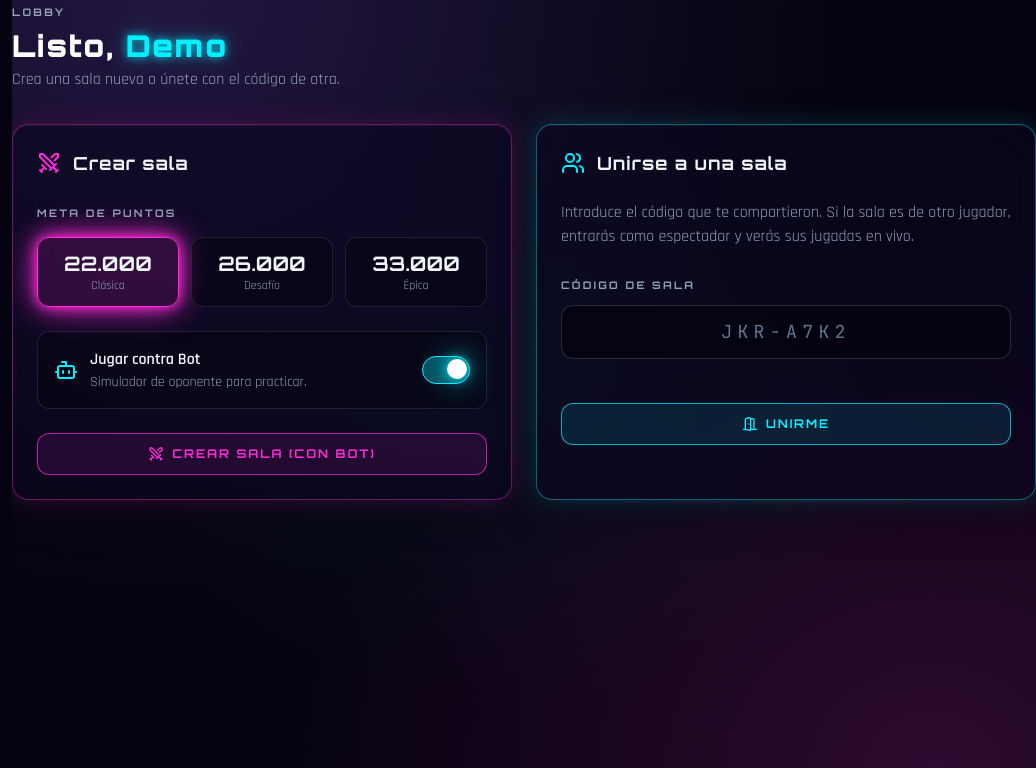
Scenario: Lobby (F2: salas) › shows a server error when the room cannot be created
Click the button "Crear sala (con Bot)" at (262, 454), box left=37, top=433, right=487, bottom=475
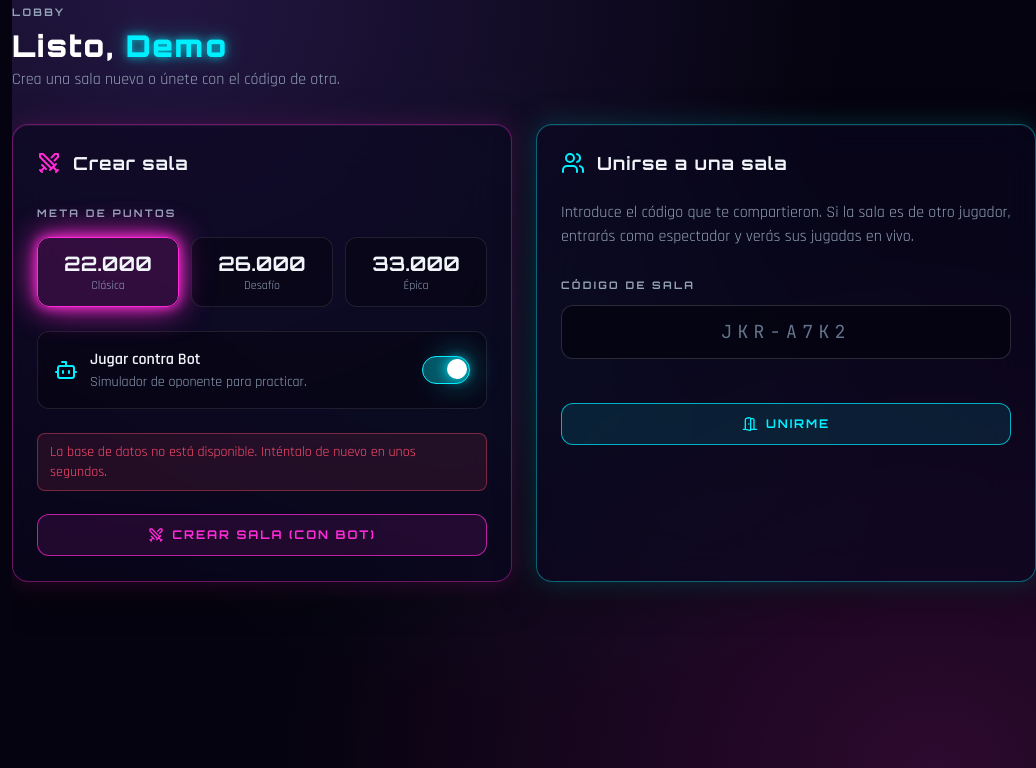
Expected: the message shows "base de datos no está disponible", left=50, top=443, right=416, bottom=481
